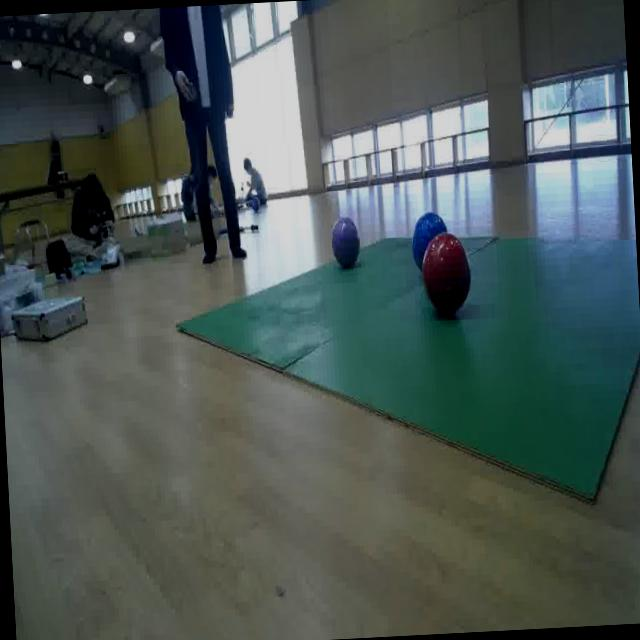blue_ball: (410, 211, 450, 269)
purple_ball: (332, 216, 362, 266)
red_ball: (422, 230, 474, 318)
